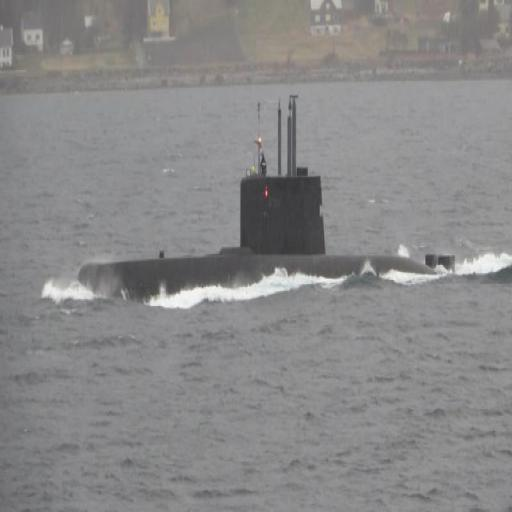submarine: (70, 85, 447, 313)
